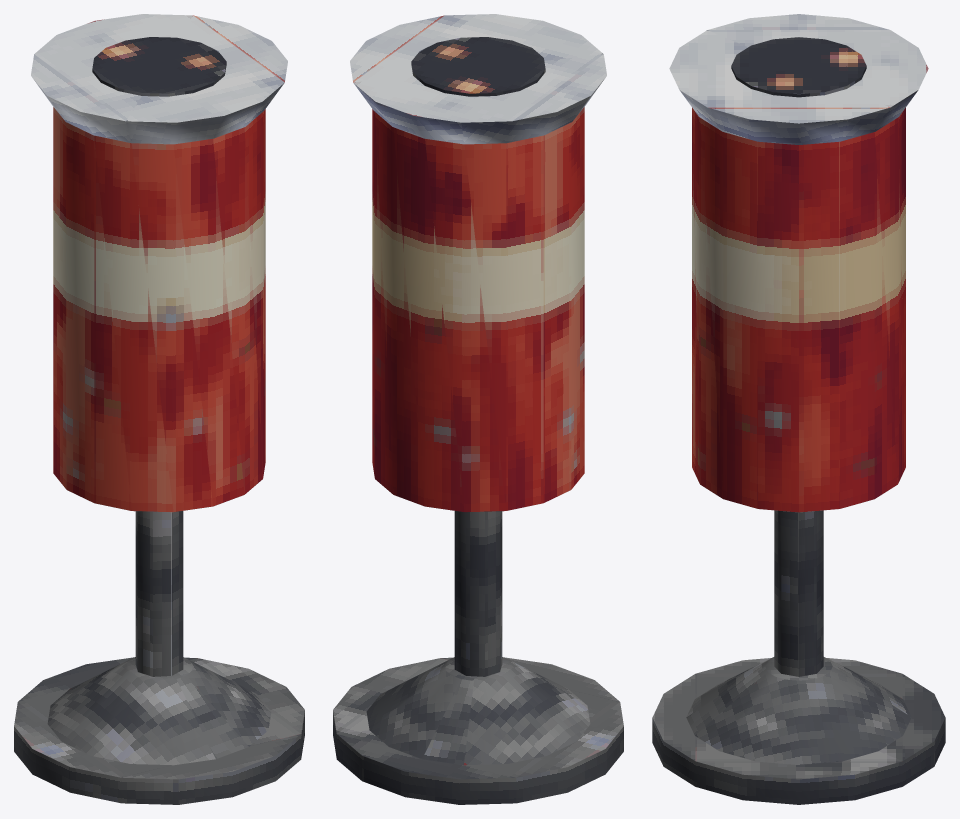
The model's file is ashtray_own.glb.
The picture shows the model from 3 angles, left to right: view 1: azimuth 30°, elevation 25°; view 2: azimuth 150°, elevation 25°; view 3: azimuth 270°, elevation 25°; orthographic projection.
Visible parts, largest first — view 1: mesh; view 2: mesh; view 3: mesh.
Part boxes in pixels (box(x1,y1,x2,y2)): mesh: box(14, 14, 304, 804); mesh: box(333, 14, 623, 804); mesh: box(652, 14, 945, 804).
Bounding box in the file's own units: 0.2588 × 0.66 × 0.2588.
1 material, 1 textured.
